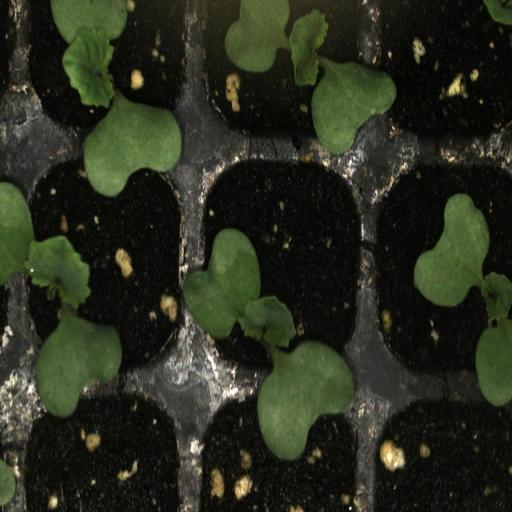Germinacao: (193, 138, 370, 376), (8, 141, 190, 370), (371, 141, 512, 381), (9, 0, 192, 137), (194, 0, 369, 134)
